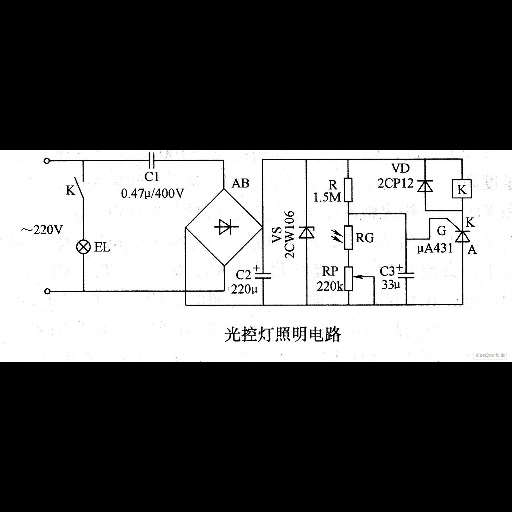capacitor: (143, 151, 163, 168)
firstpolarcapacitor: (251, 263, 277, 282), (397, 263, 418, 281)
firstresistance: (342, 175, 358, 205)
seconddiode: (417, 177, 435, 195)
